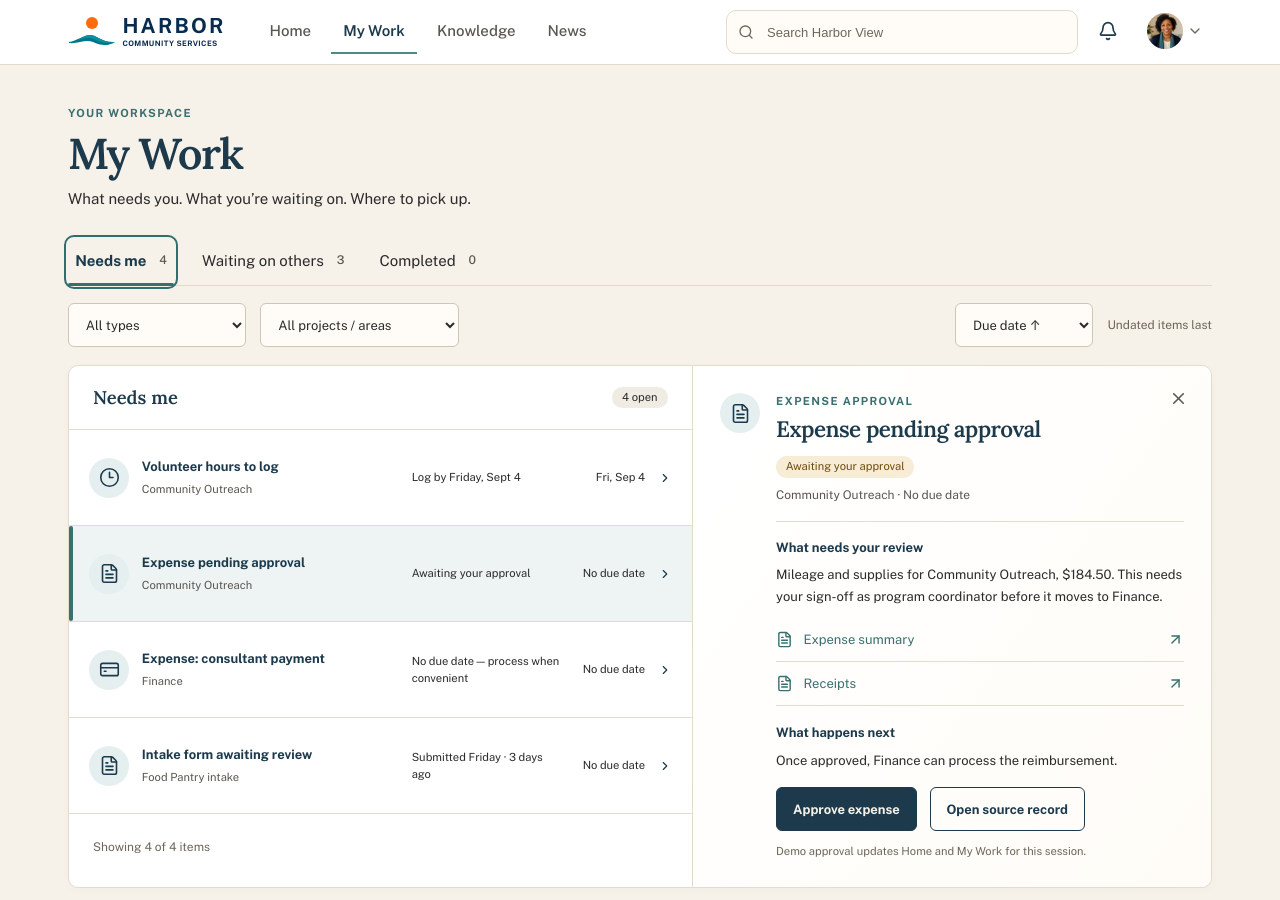
Test case: My Work › shows submitted requests separately and supports keyboard tabs
Press Arrowright
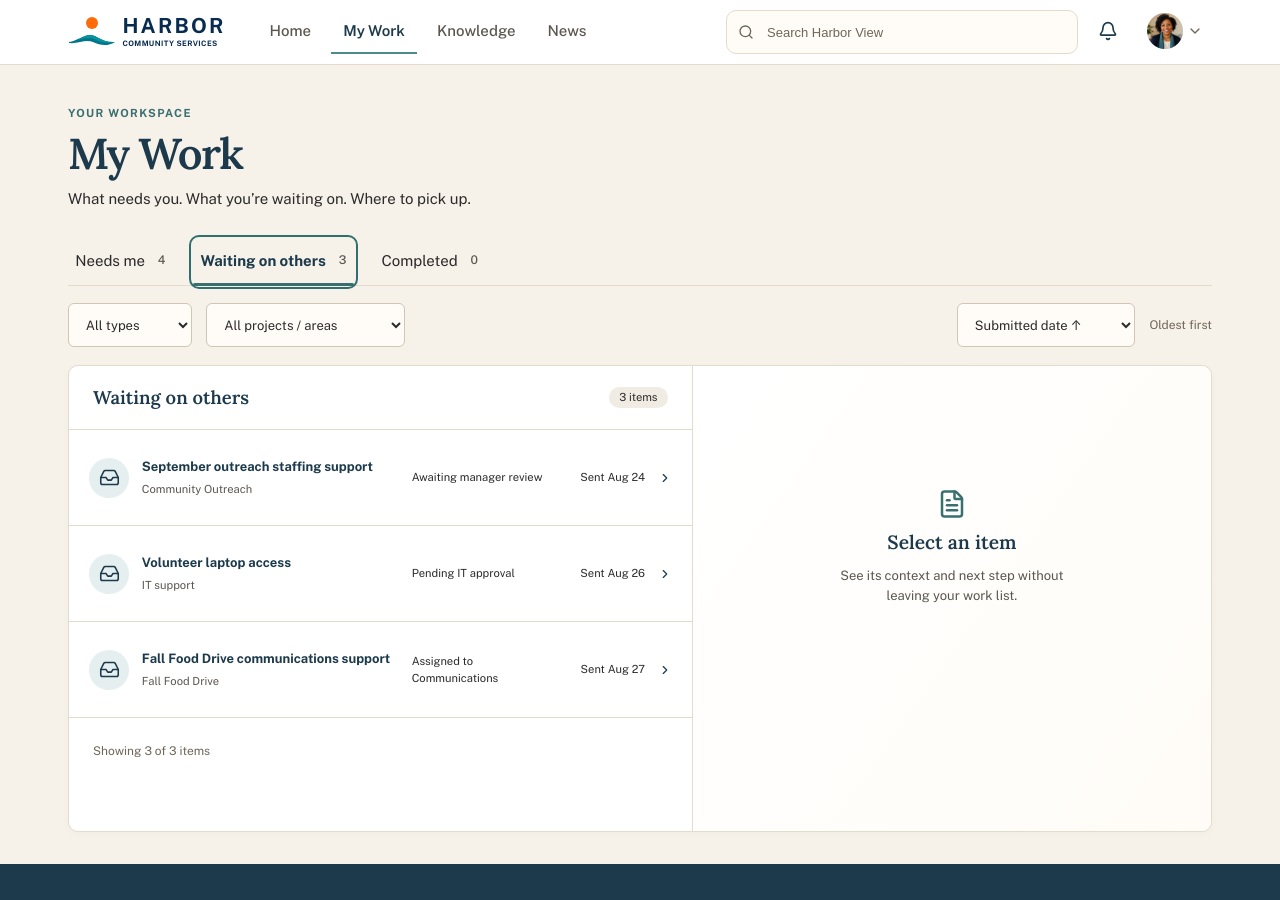
Click the button "Volunteer laptop access" at (109, 574), box [69, 526, 692, 622]
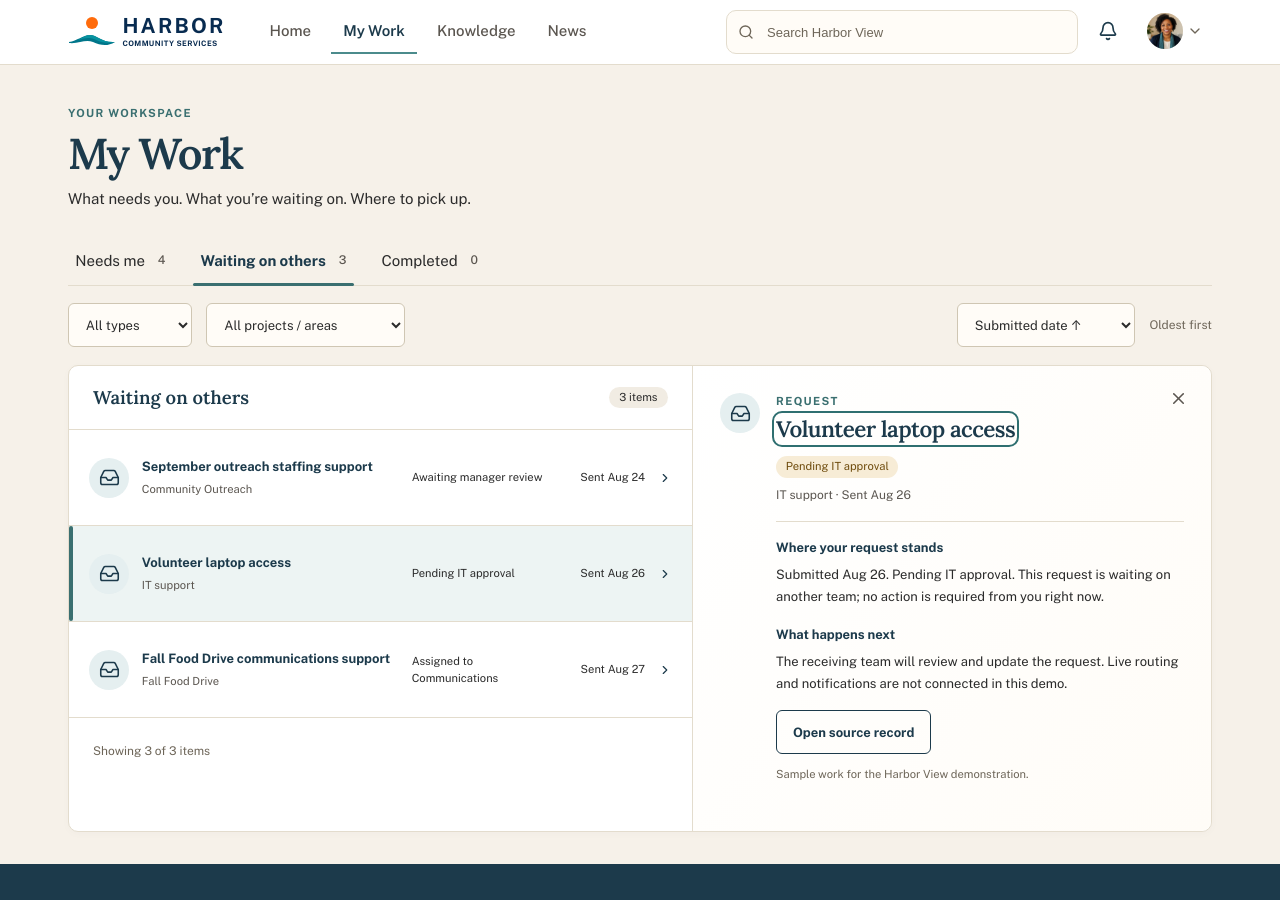
Expected: the button "Approve expense" is not shown
Now the text "no action is required from you right now" is shown, box [776, 568, 1171, 604]
